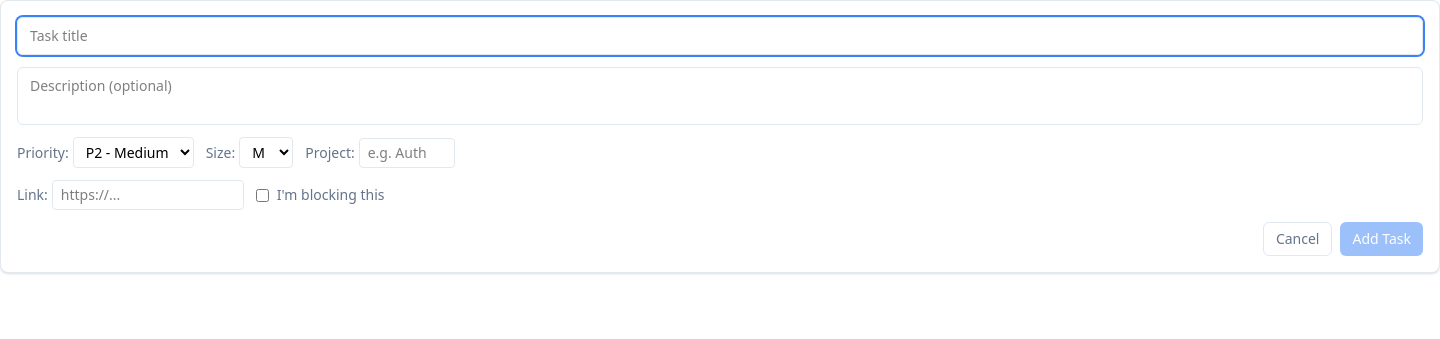
Test: TaskForm › shows error on submit failure
Type "Fail task" into the field labelled "Task title" at (720, 36), box [17,17,1423,55]
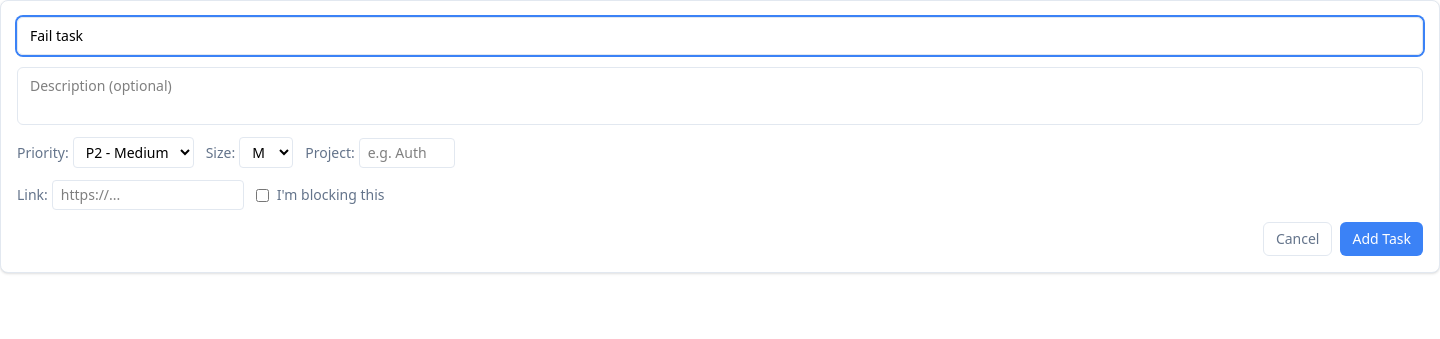
Click the button "Add Task" at (1382, 239), box [1340,222,1423,256]
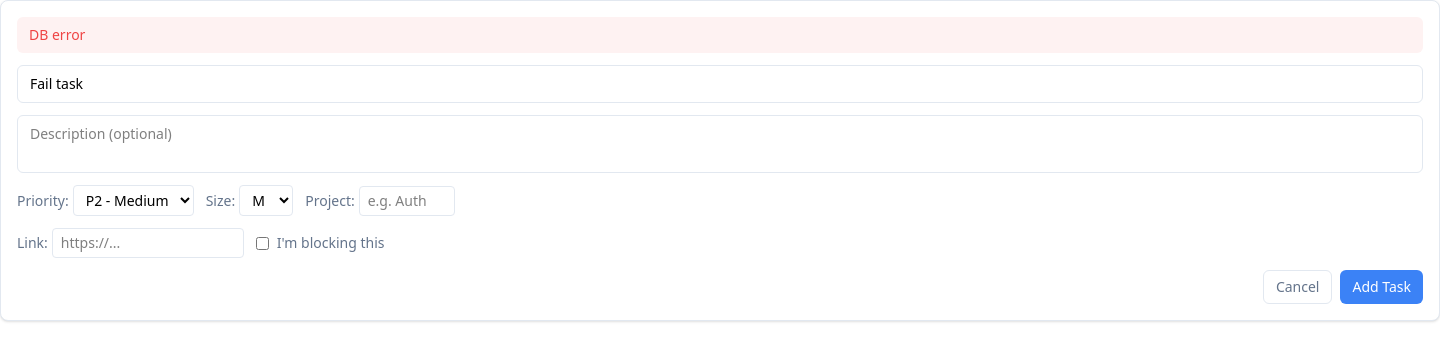
Check: the text "DB error" is shown, box [17,17,1423,53]
